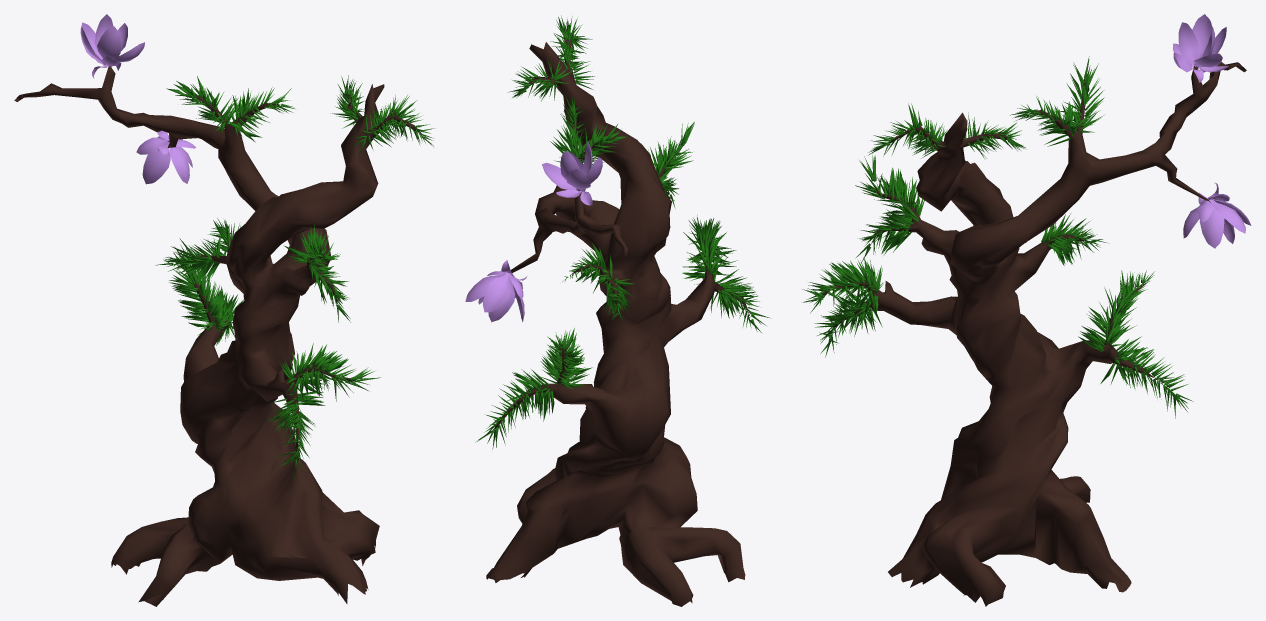
The model's file is Alice_Kitchen_Tree.fbx.
3 renders of one model, left to right at view 1: azimuth 30°, elevation 25°; view 2: azimuth 150°, elevation 25°; view 3: azimuth 270°, elevation 25°, orthographic. The views are drawn at different scales.
Parts seen in each view (by area): view 1: tree, foliage; view 2: tree, foliage; view 3: tree, foliage.
Boxes of the visible parts, x1,y1,x2,y2 form: tree: (14, 66, 421, 606); foliage: (80, 14, 435, 480); tree: (486, 37, 750, 606); foliage: (465, 15, 770, 449); tree: (821, 62, 1246, 606); foliage: (802, 14, 1251, 418).
Bounding box in the file's own units: 372 × 237 × 462.
